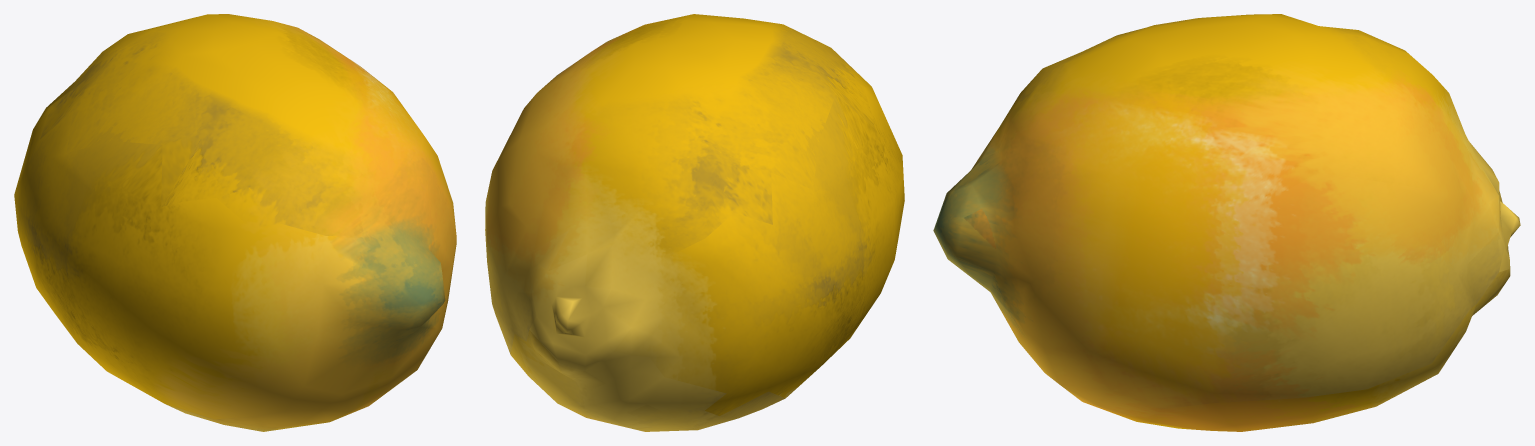
Rendered from LO_Lemon1.glb.
3 renders of one model, left to right at view 1: azimuth 30°, elevation 25°; view 2: azimuth 150°, elevation 25°; view 3: azimuth 270°, elevation 25°, orthographic. The views are drawn at different scales.
Parts seen in each view (by area): view 1: lemon; view 2: lemon; view 3: lemon.
Boxes of the visible parts, x1,y1,x2,y2 form: lemon: (14,14,456,431); lemon: (485,14,904,431); lemon: (933,14,1520,431).
Size of the model in its own units: 0.0687 by 0.0681 by 0.0964.
Materials: 1 (1 with a texture image).
